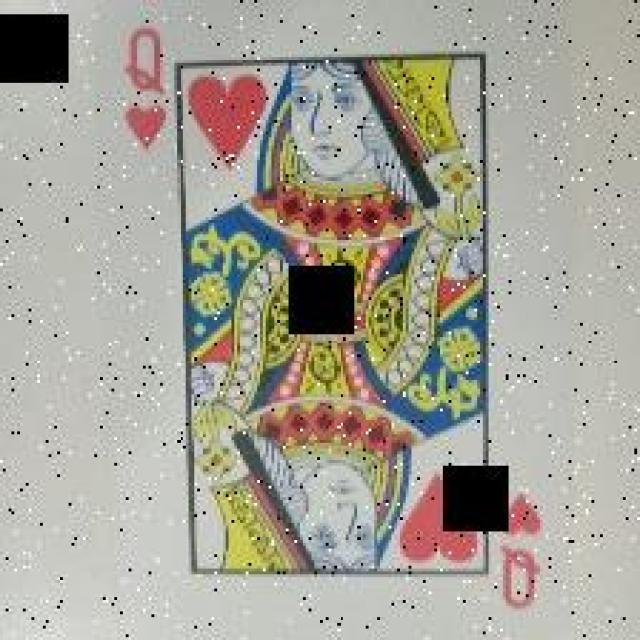Queen of hearts: (100, 9, 560, 634)
